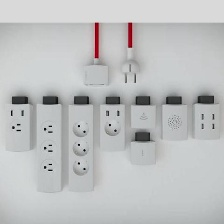three_eye_plug: (34, 101, 64, 194), (67, 102, 95, 193), (2, 101, 33, 154), (96, 101, 126, 154), (190, 102, 221, 142)
